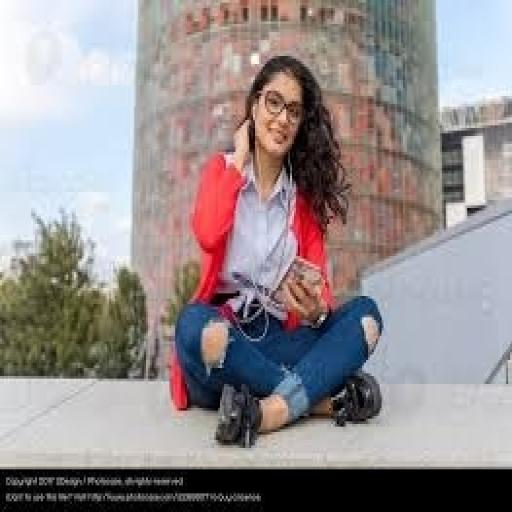listening_to_music: (172, 50, 386, 450)
